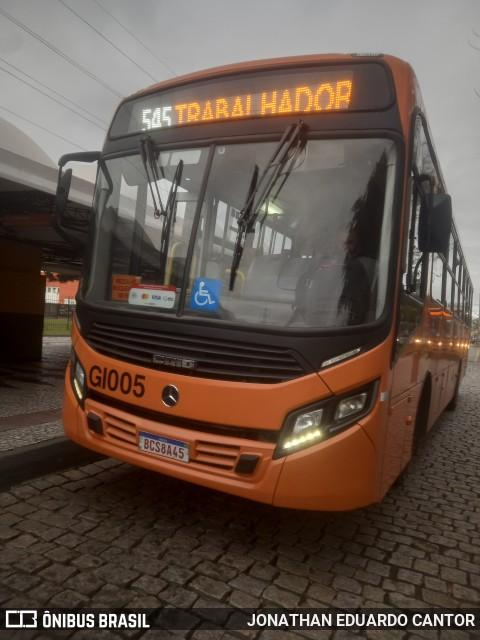TRABALHADOR: (170, 73, 358, 130)
